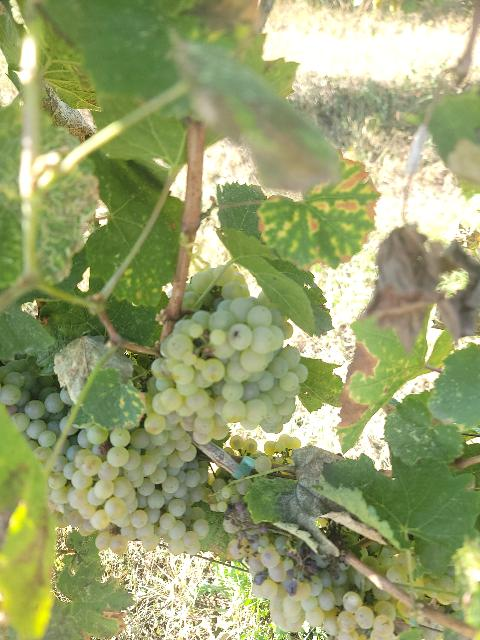grapes: (149, 280, 308, 442), (224, 502, 396, 640), (49, 425, 209, 552)
